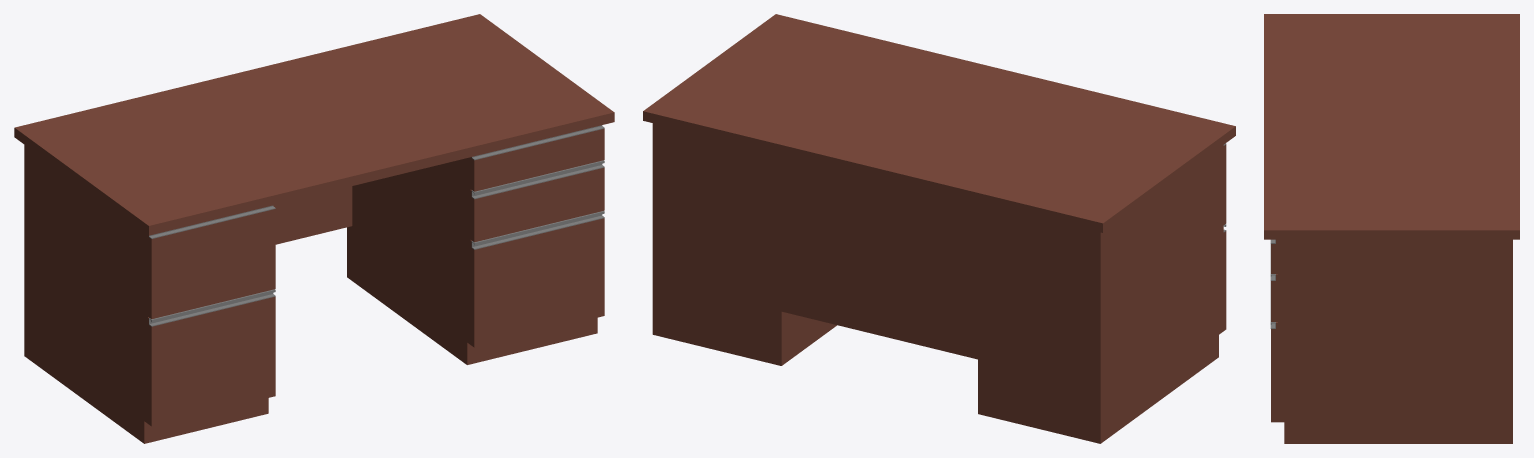
Rendered from 515_エグゼクティブデスク.glb.
3 renders of one model, left to right at view 1: azimuth 30°, elevation 25°; view 2: azimuth 150°, elevation 25°; view 3: azimuth 270°, elevation 25°, orthographic. The views are drawn at different scales.
Parts seen in each view (by area): view 1: Body, hikidashi5, hikidashi2, hikidashi1, hikidashi4, hikidashi3; view 2: Body; view 3: Body, hikidashi5, hikidashi4.
Part boxes in pixels (<box>): Body: <box>14,14,614,443</box>; hikidashi5: <box>470,211,604,347</box>; hikidashi2: <box>148,289,275,426</box>; hikidashi1: <box>148,205,275,319</box>; hikidashi4: <box>470,160,604,242</box>; hikidashi3: <box>470,125,604,191</box>; Body: <box>643,14,1235,443</box>; Body: <box>1264,14,1519,443</box>; hikidashi5: <box>1270,281,1277,422</box>; hikidashi4: <box>1270,244,1277,321</box>.
Size of the model in its own units: 1.5 by 0.7 by 0.75.
